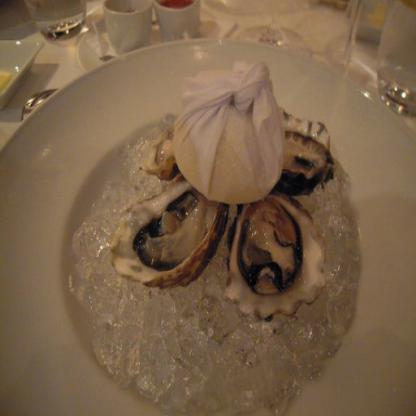oyster: (113, 180, 227, 288), (230, 188, 323, 320)
